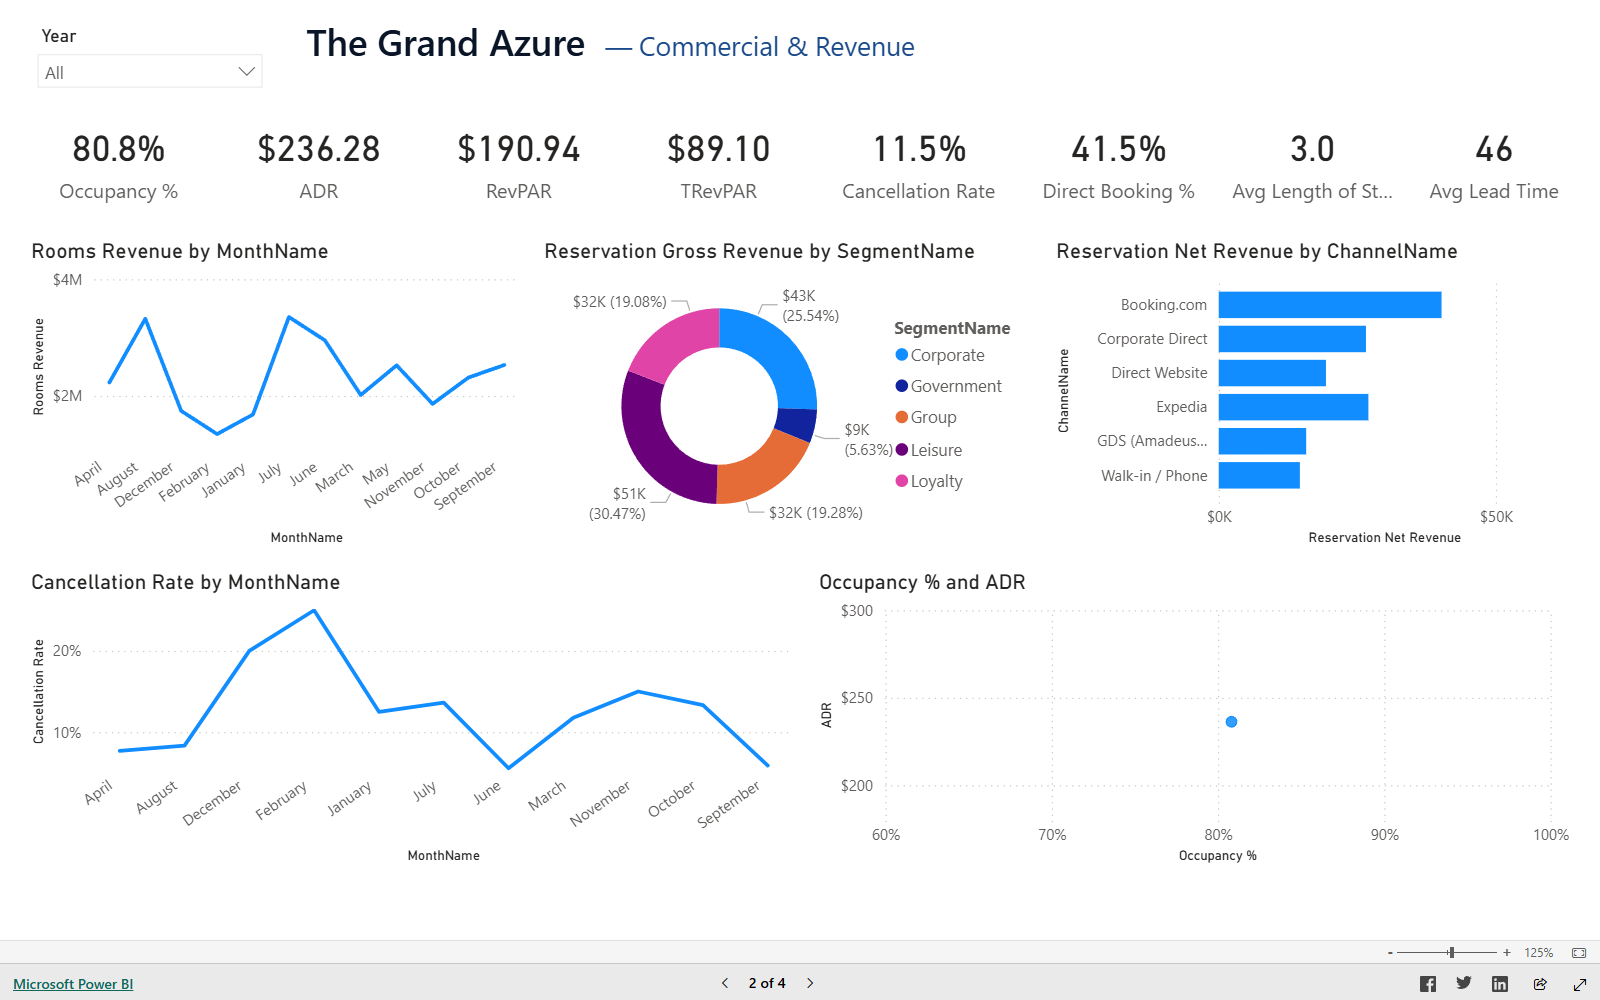

Layout of this report page (visuals, bound fields, positions):
{"tool":"powerbi","page":{"name":"Commercial & Revenue","canvas":[1280,720],"ordinal":1},"visuals":[{"type":"card","fields":{"Values":["_Measures.Occupancy %"]},"box":[20,80,150,95],"z":0},{"type":"card","fields":{"Values":["_Measures.ADR"]},"box":[180,80,150,95],"z":1},{"type":"card","fields":{"Values":["_Measures.RevPAR"]},"box":[340,80,150,95],"z":2},{"type":"card","fields":{"Values":["_Measures.TRevPAR"]},"box":[500,80,150,95],"z":3},{"type":"card","fields":{"Values":["_Measures.Cancellation Rate"]},"box":[660,80,150,95],"z":4},{"type":"card","fields":{"Values":["_Measures.Direct Booking %"]},"box":[820,80,150,95],"z":5},{"type":"card","fields":{"Values":["_Measures.Avg Length of Stay"]},"box":[980,80,140,95],"z":6},{"type":"card","fields":{"Values":["_Measures.Avg Lead Time"]},"box":[1130,80,130,95],"z":7},{"type":"lineChart","fields":{"Category":["Dim_Date.MonthName"],"Legend":["Dim_Date.Year"],"Y":["_Measures.Rooms Revenue"]},"box":[20,190,400,250],"z":8},{"type":"donutChart","fields":{"Category":["Dim_Segment.SegmentName"],"Y":["_Measures.Total Revenue"]},"box":[430,190,400,250],"z":9},{"type":"barChart","fields":{"Category":["Dim_Channel.ChannelName"],"Y":["_Measures.Net Revenue"]},"box":[840,190,420,250],"z":10},{"type":"lineChart","fields":{"Category":["Dim_Date.MonthName"],"Legend":["Dim_Date.Year"],"Y":["_Measures.Cancellation Rate"]},"box":[20,455,620,240],"z":11},{"type":"scatterChart","fields":{"X":["_Measures.Occupancy %"],"Y":["_Measures.ADR"],"Details":["Dim_Date.MonthName"]},"box":[650,455,610,240],"z":12},{"type":"slicer","fields":{"Values":["Dim_Date.Year"]},"box":[19.9,14.8,199.9,57.2],"z":13}]}

Visuals, with their boxes on the page's 1280x720 design canvas (x1, y1, x2, y2). These are canvas units, not pixel positions in the 1600x1000 screenshot, which may show the page scaled, cropped or inside an application window:
card - _Measures.Occupancy %: box=[20, 80, 170, 175]
card - _Measures.ADR: box=[180, 80, 330, 175]
card - _Measures.RevPAR: box=[340, 80, 490, 175]
card - _Measures.TRevPAR: box=[500, 80, 650, 175]
card - _Measures.Cancellation Rate: box=[660, 80, 810, 175]
card - _Measures.Direct Booking %: box=[820, 80, 970, 175]
card - _Measures.Avg Length of Stay: box=[980, 80, 1120, 175]
card - _Measures.Avg Lead Time: box=[1130, 80, 1260, 175]
lineChart - Dim_Date.MonthName x Dim_Date.Year: box=[20, 190, 420, 440]
donutChart - Dim_Segment.SegmentName x _Measures.Total Revenue: box=[430, 190, 830, 440]
barChart - Dim_Channel.ChannelName x _Measures.Net Revenue: box=[840, 190, 1260, 440]
lineChart - Dim_Date.MonthName x Dim_Date.Year: box=[20, 455, 640, 695]
scatterChart - _Measures.Occupancy % x _Measures.ADR: box=[650, 455, 1260, 695]
slicer - Dim_Date.Year: box=[20, 15, 220, 72]
